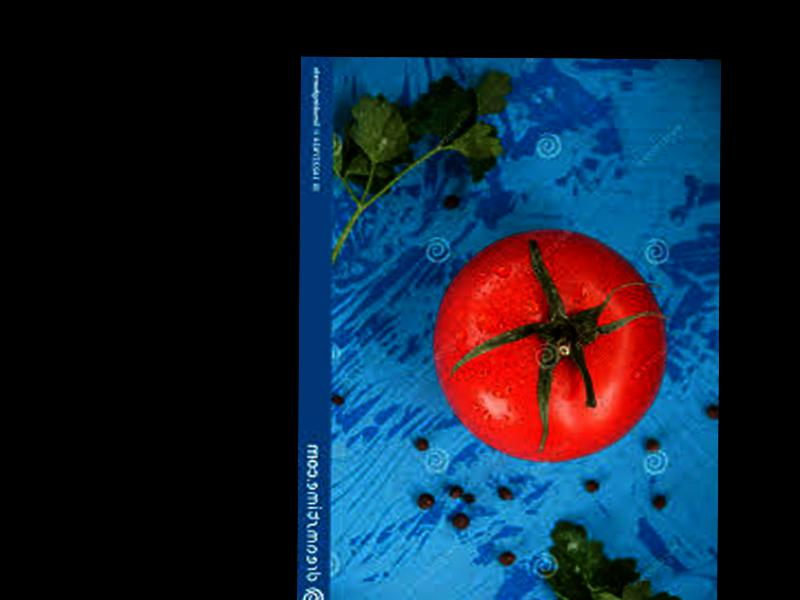Tomato: (432, 228, 666, 462)
